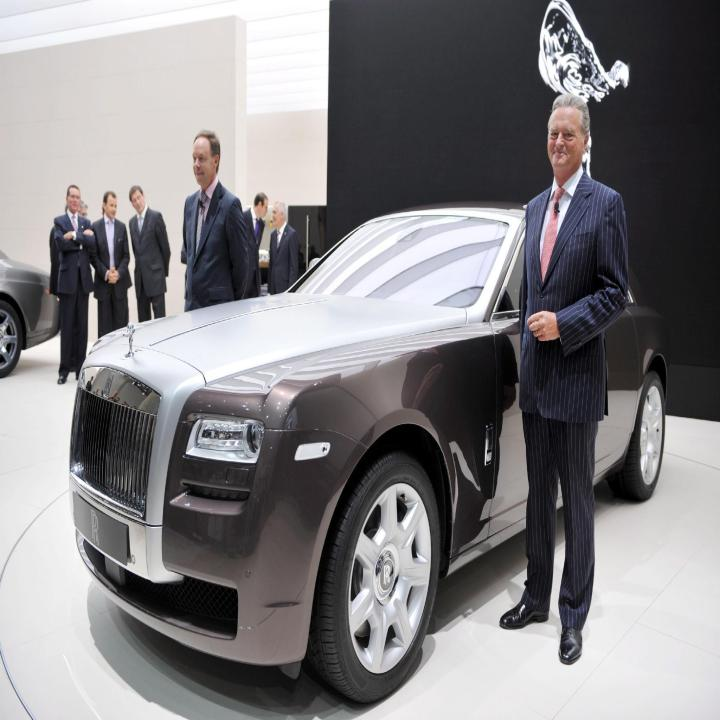car: (68, 201, 669, 705), (0, 247, 61, 378)
